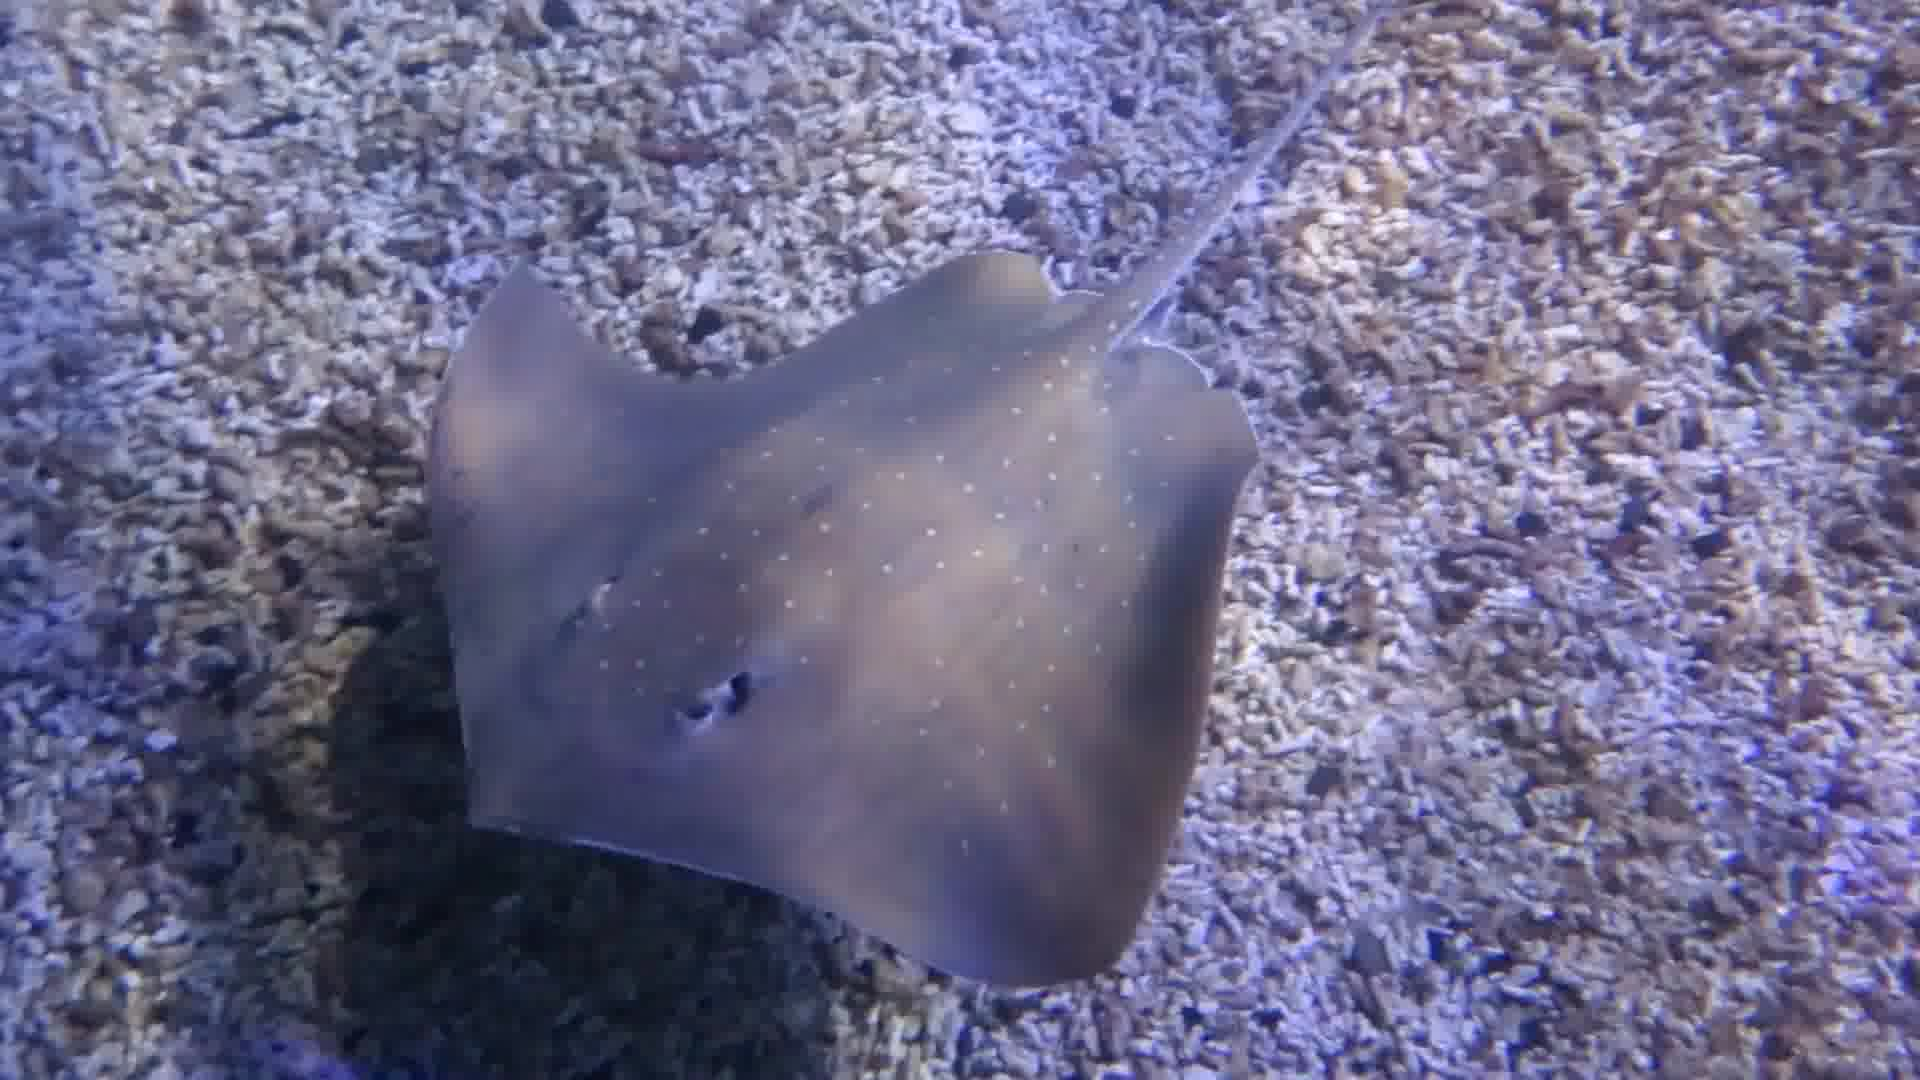Himantura gerrardi: (400, 1, 1379, 982)
